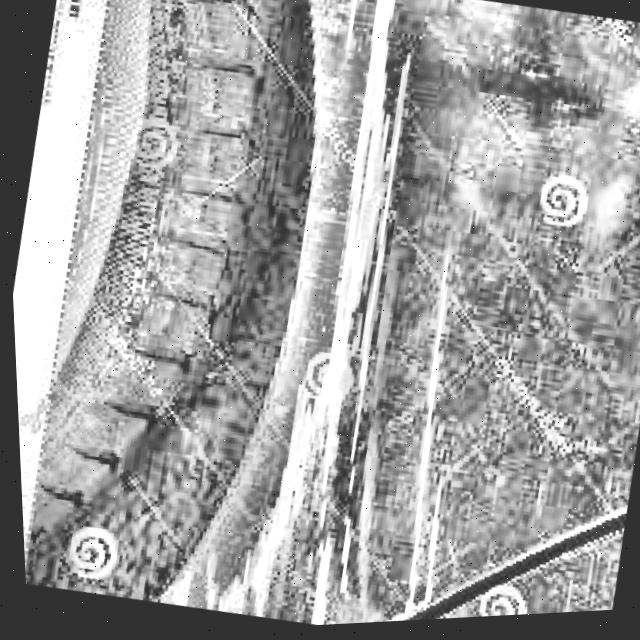door_scratch: (192, 0, 469, 630), (363, 250, 553, 622)
